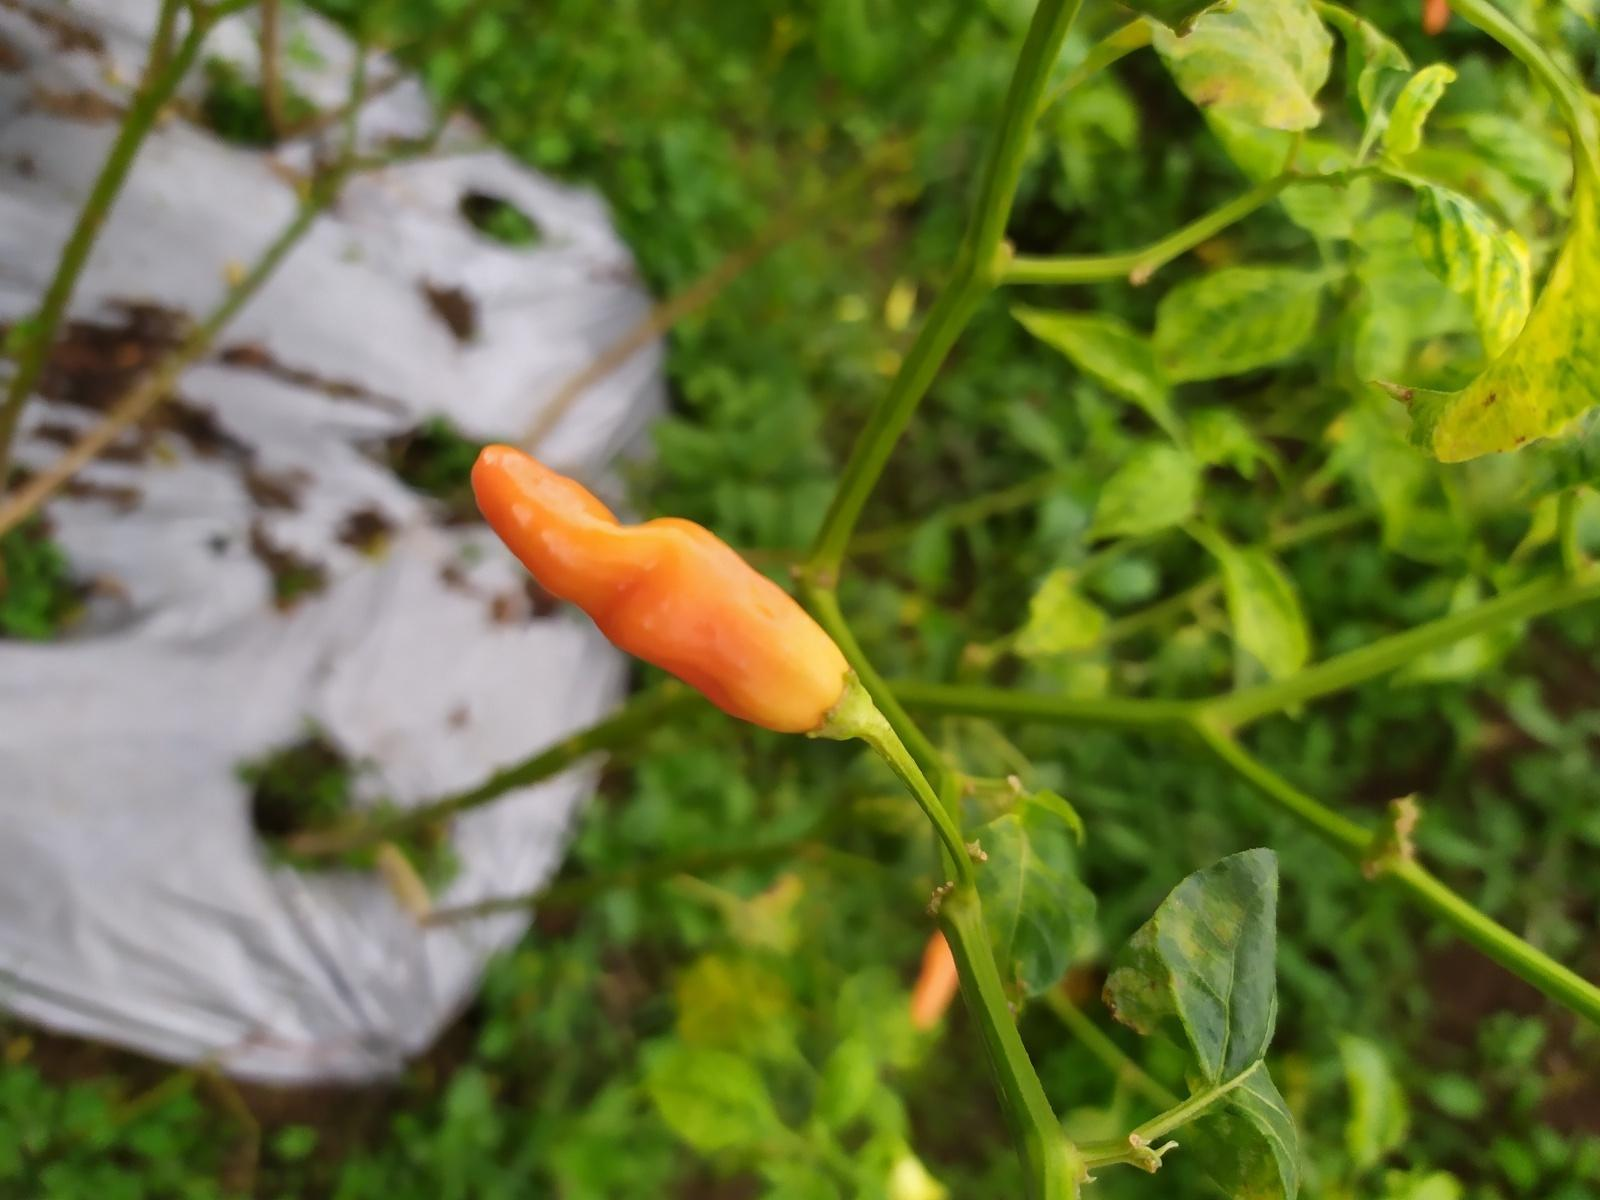cabai_normal: (470, 444, 855, 735)
